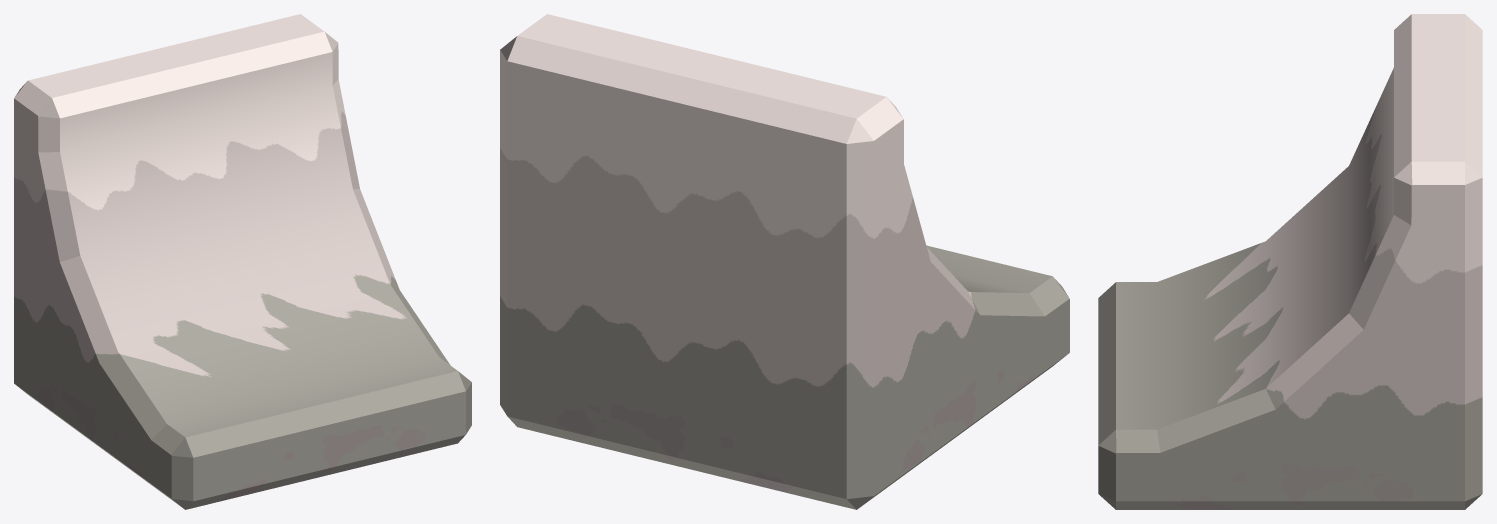
File: R4B_CoveEdge_LOD1.glb
The picture shows the model from 3 angles, left to right: view 1: azimuth 30°, elevation 25°; view 2: azimuth 150°, elevation 25°; view 3: azimuth 270°, elevation 25°; orthographic projection. The views are drawn at different scales.
Visible parts, largest first — view 1: R4B_CoveEdge_LOD1; view 2: R4B_CoveEdge_LOD1; view 3: R4B_CoveEdge_LOD1.
Boxes of the visible parts, box(x1,y1,x2,y2) form: R4B_CoveEdge_LOD1: box(14, 14, 471, 509); R4B_CoveEdge_LOD1: box(500, 14, 1069, 509); R4B_CoveEdge_LOD1: box(1098, 14, 1482, 509).
Size of the model in its own units: 0.52 by 0.52 by 0.52.
1 material, 1 textured.
